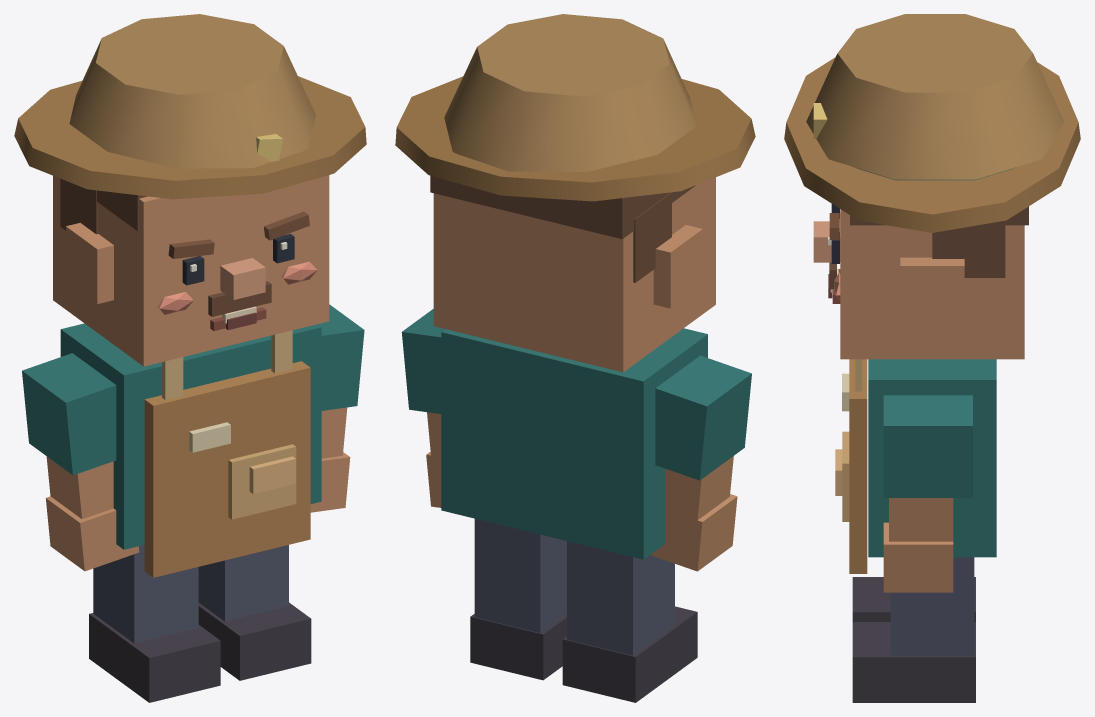
File: ollie-shopkeeper.glb
The picture shows the model from 3 angles, left to right: view 1: azimuth 30°, elevation 25°; view 2: azimuth 150°, elevation 25°; view 3: azimuth 270°, elevation 25°; orthographic projection. The views are drawn at different scales.
Visible parts, largest first — view 1: Head, Body, Arm_L, Arm_R, Eyes; view 2: Head, Body, Arm_L, Arm_R; view 3: Head, Body, Arm_R.
Boxes of the visible parts, x1=… form: Head: x1=14, y1=14, x2=366, y2=366; Body: x1=60, y1=323, x2=321, y2=702; Arm_L: x1=22, y1=353, x2=139, y2=571; Arm_R: x1=310, y1=304, x2=364, y2=512; Eyes: x1=182, y1=234, x2=294, y2=285; Head: x1=395, y1=14, x2=755, y2=372; Body: x1=441, y1=328, x2=707, y2=702; Arm_L: x1=650, y1=355, x2=751, y2=571; Arm_R: x1=401, y1=309, x2=445, y2=507; Head: x1=784, y1=14, x2=1080, y2=359; Body: x1=835, y1=359, x2=996, y2=702; Arm_R: x1=883, y1=395, x2=972, y2=592.
Bounding box in the file's own units: 1.36 × 2.4 × 1.06.
